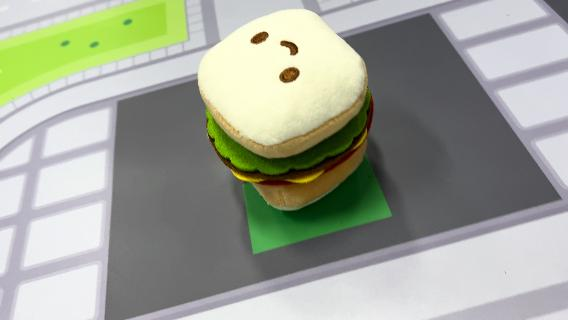sandwich: (195, 8, 377, 212)
